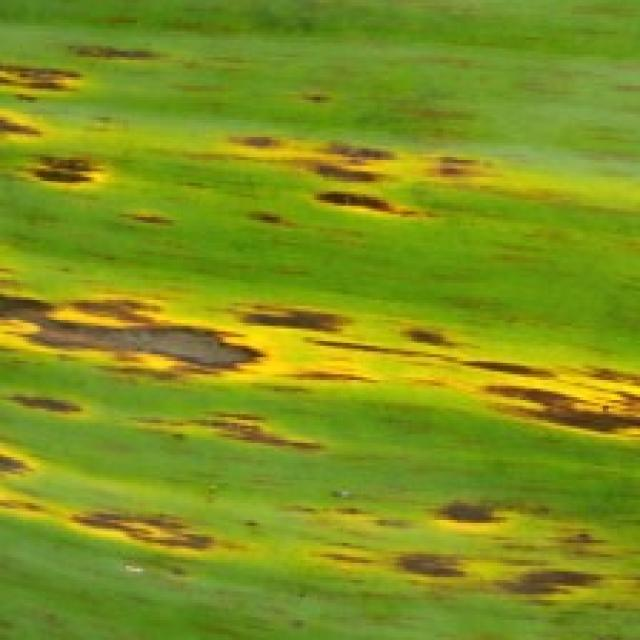Early_leaf_spot: (0, 232, 640, 466), (0, 408, 640, 628), (157, 52, 557, 254), (0, 23, 153, 201), (110, 196, 173, 241)
